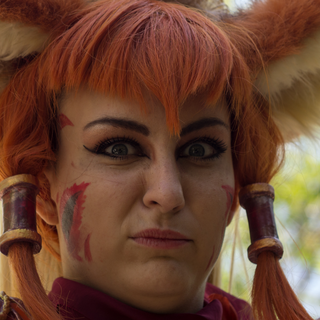eye: (87, 136, 141, 162), (176, 136, 222, 161)
